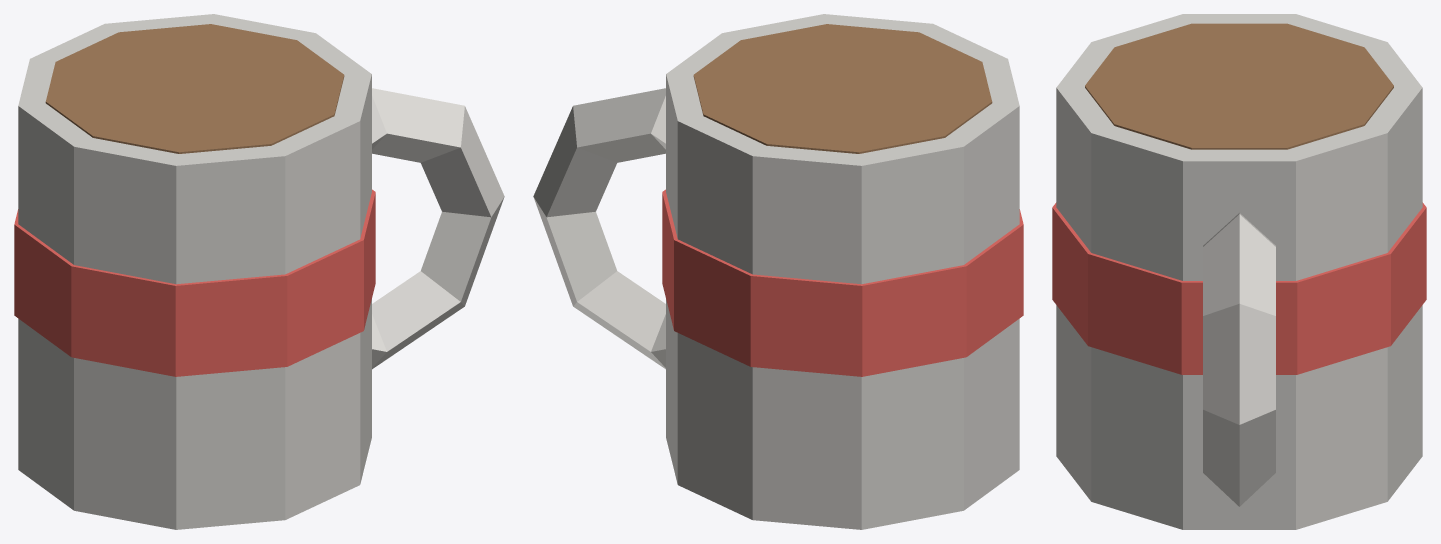
Rendered from prop_mug_01.glb.
3 views of the same model, side by side, from view 1: azimuth 30°, elevation 25°; view 2: azimuth 150°, elevation 25°; view 3: azimuth 270°, elevation 25° (orthographic).
Visible parts, largest first — view 1: prop_mug_01_body; view 2: prop_mug_01_body; view 3: prop_mug_01_body.
Part boxes in pixels (left/top/right/bottom): prop_mug_01_body: left=14, top=14, right=504, bottom=529; prop_mug_01_body: left=533, top=14, right=1023, bottom=529; prop_mug_01_body: left=1052, top=14, right=1426, bottom=529.
Bounding box in the file's own units: 0.1327 × 0.1005 × 0.092.
